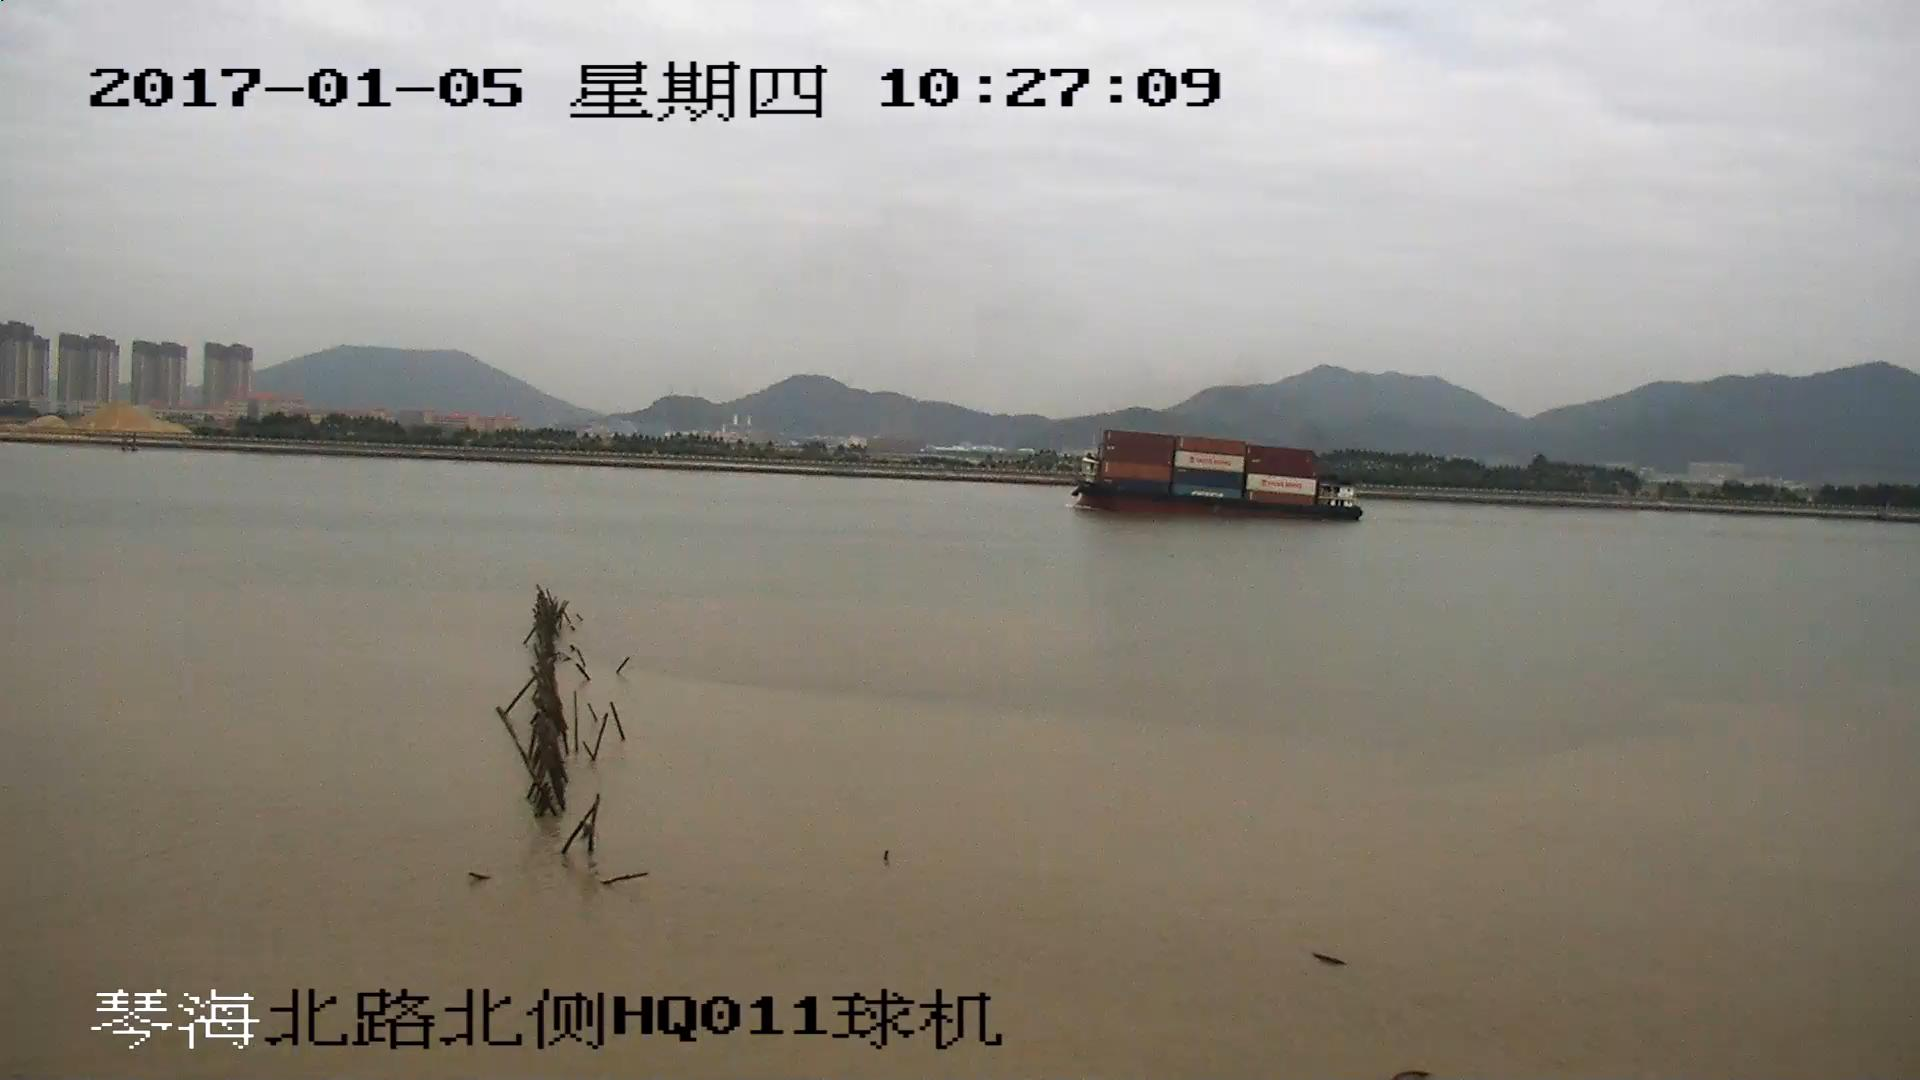container ship: (1072, 427, 1362, 521)
